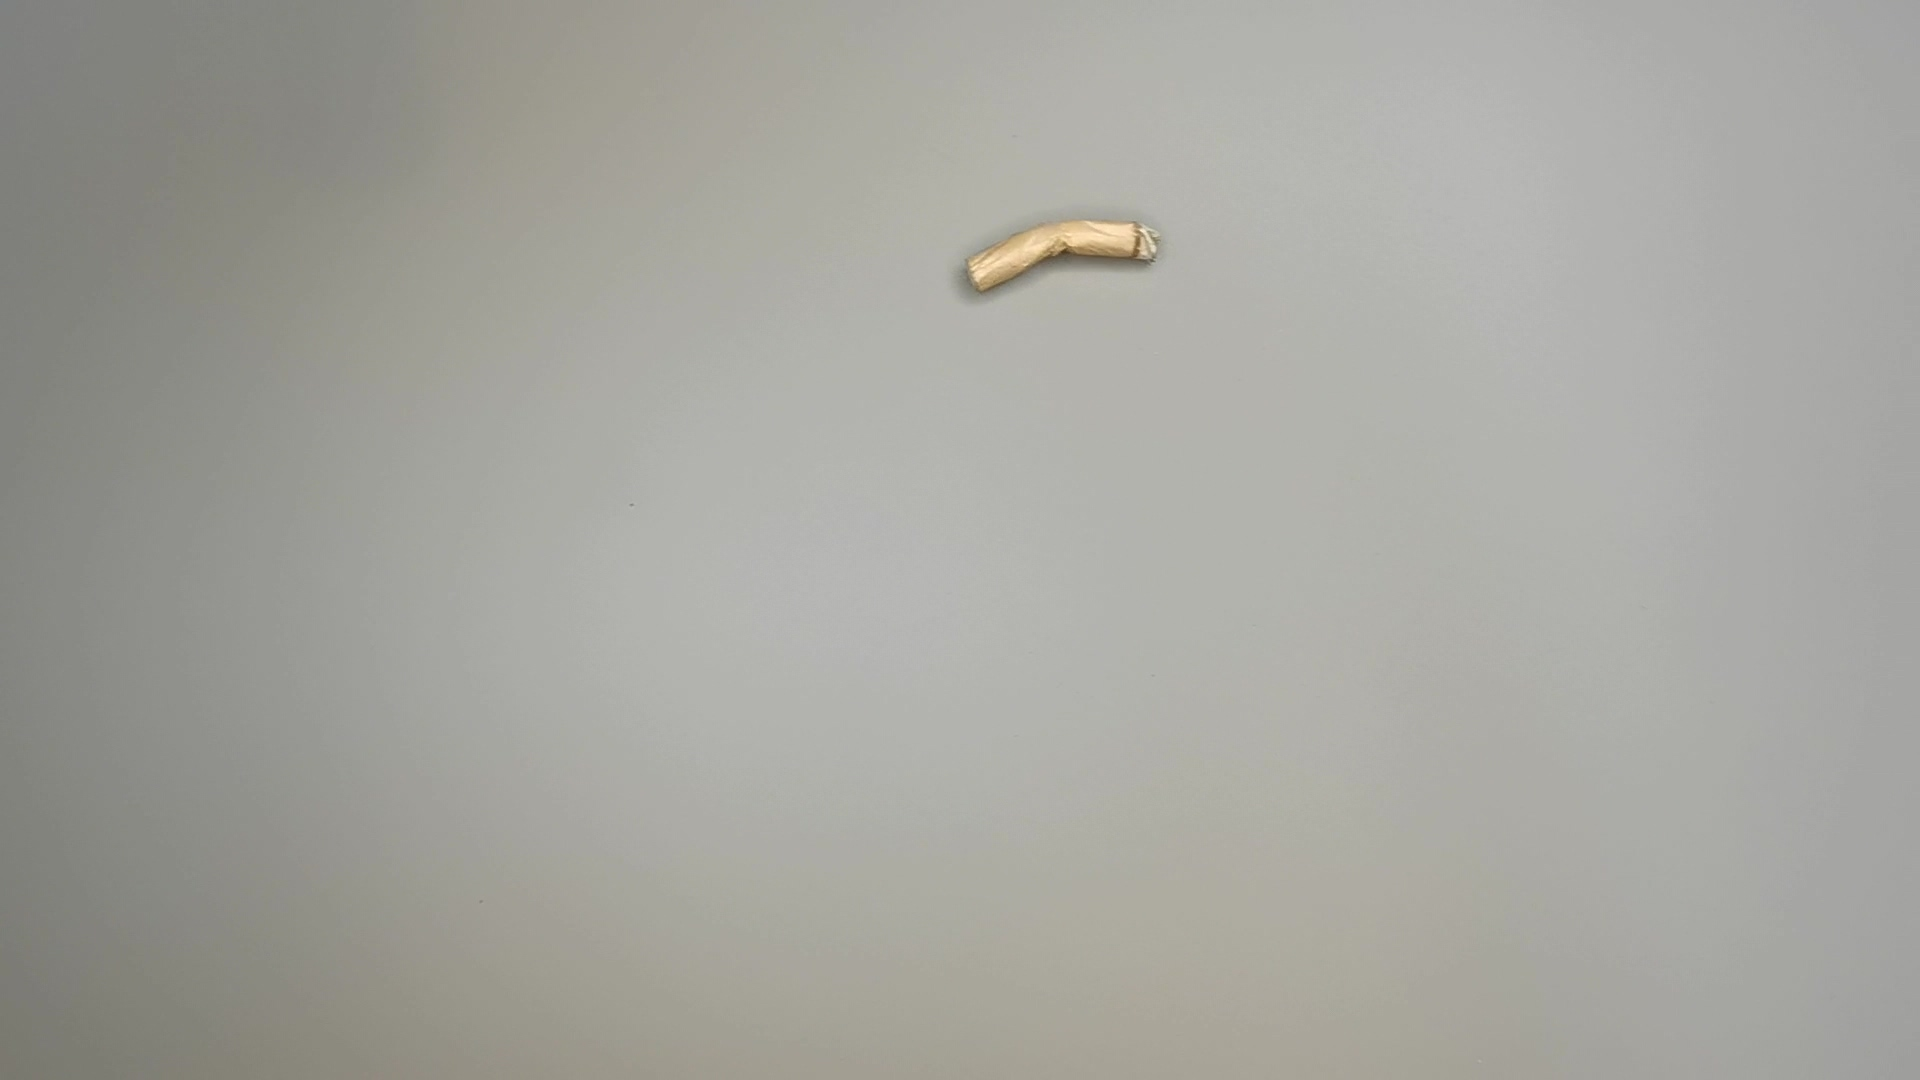cigarette: (963, 215, 1166, 305)
